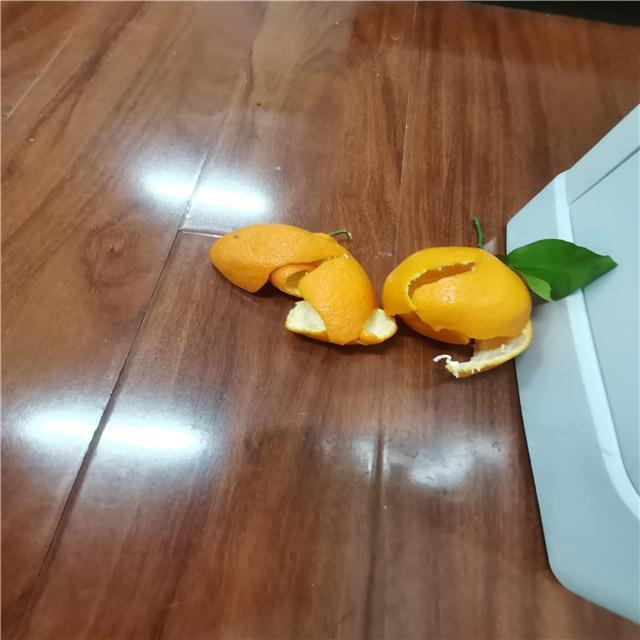orange peel: (380, 208, 596, 396), (176, 204, 391, 373)
